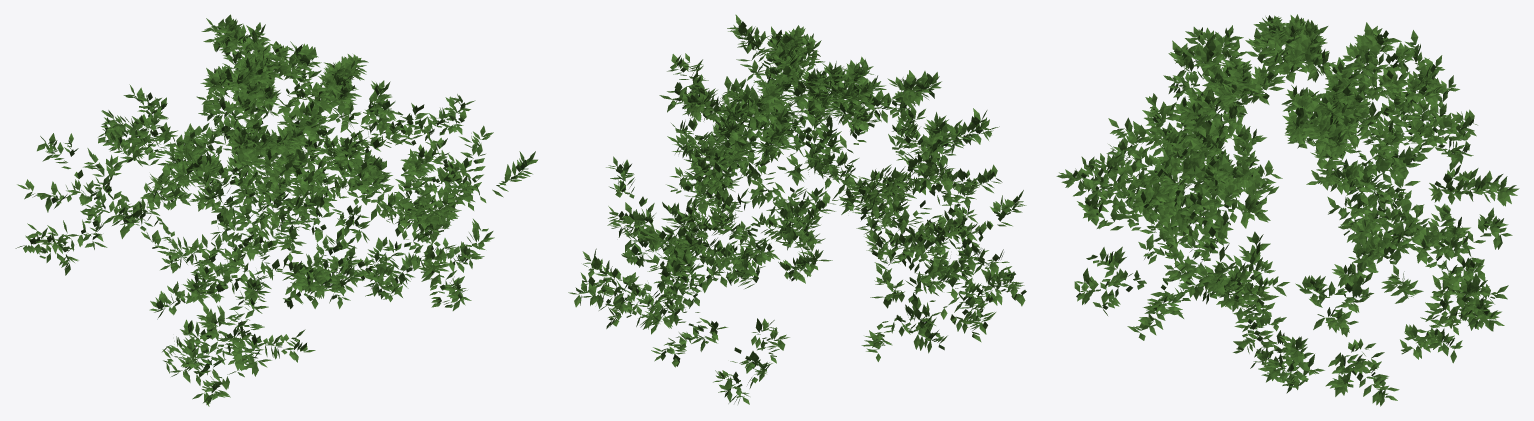
The model's file is leaves_lod.glb.
3 renders of one model, left to right at view 1: azimuth 30°, elevation 25°; view 2: azimuth 150°, elevation 25°; view 3: azimuth 270°, elevation 25°, orthographic. The views are drawn at different scales.
Bounding box in the file's own units: 12.18 × 8.62 × 10.94.
